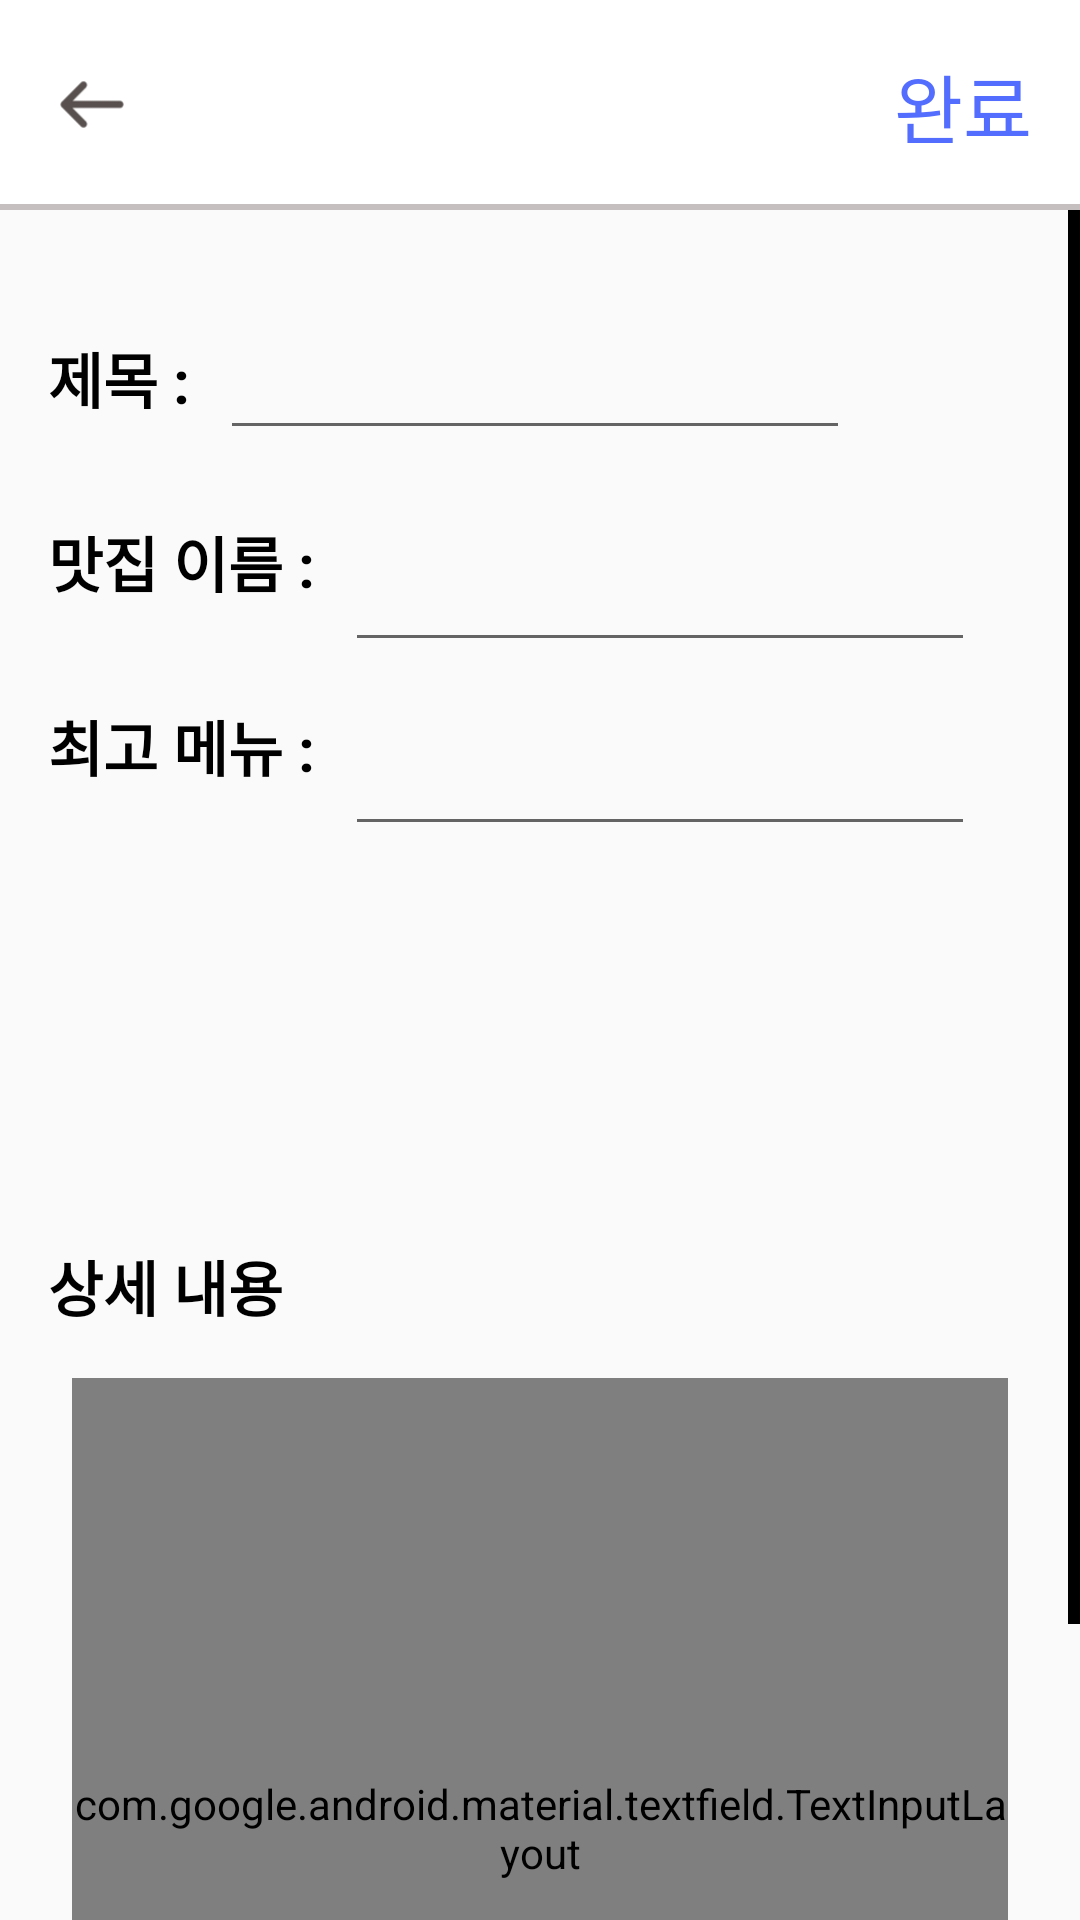

Screen size 1080px x 1920px. Icon name, then its center in pixels as point (x, y):
back arrow: point (92, 104)
